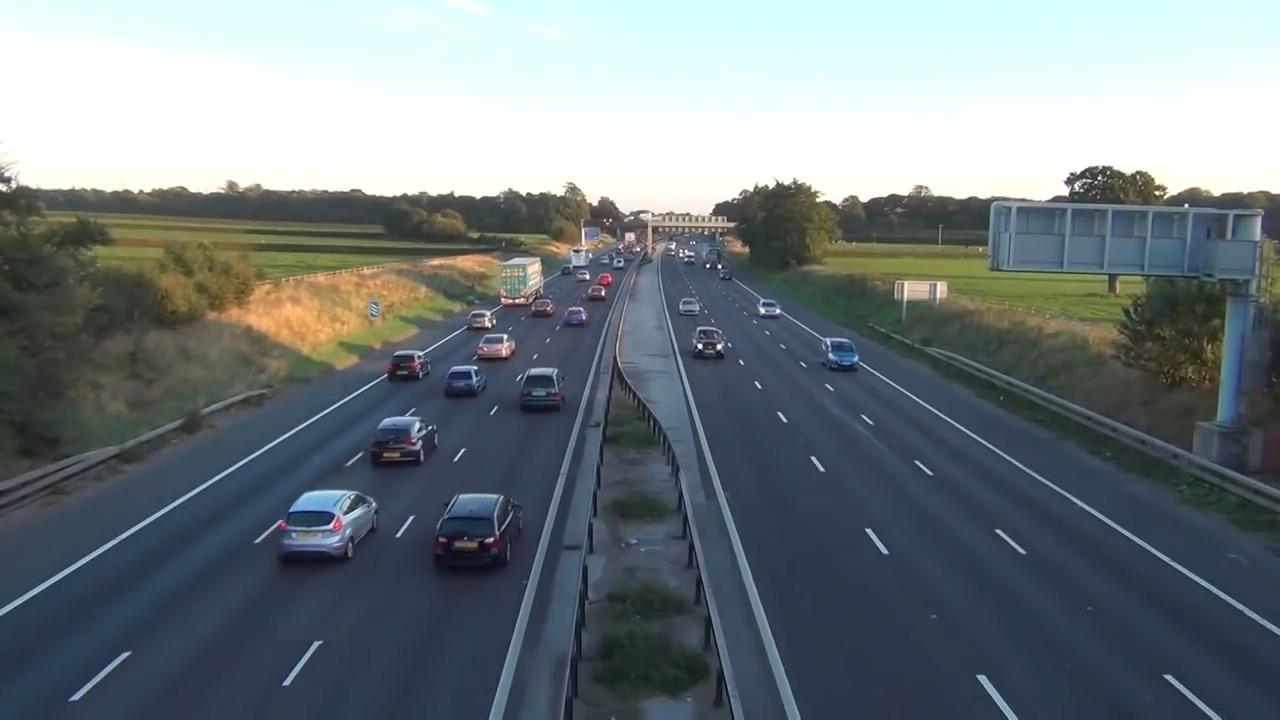truck: (490, 254, 548, 307)
